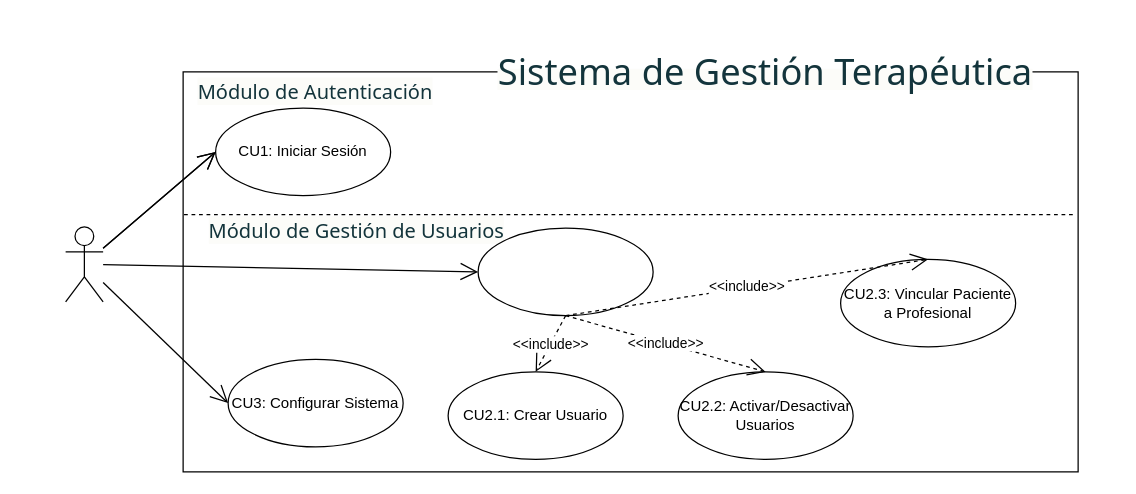
Image size: 1136x494. Some labels were removed from this diagram. The centre of each missing label's shape, as x and y in pixels:
ADMINISTRADOR: pixel 83 264
CU2: Gestionar Usuarios: pixel 565 271
